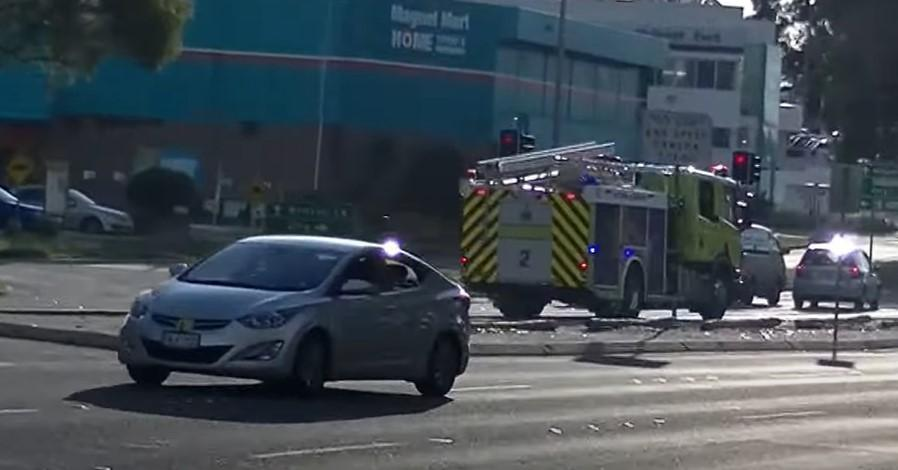firetruck_on: (455, 141, 738, 322)
